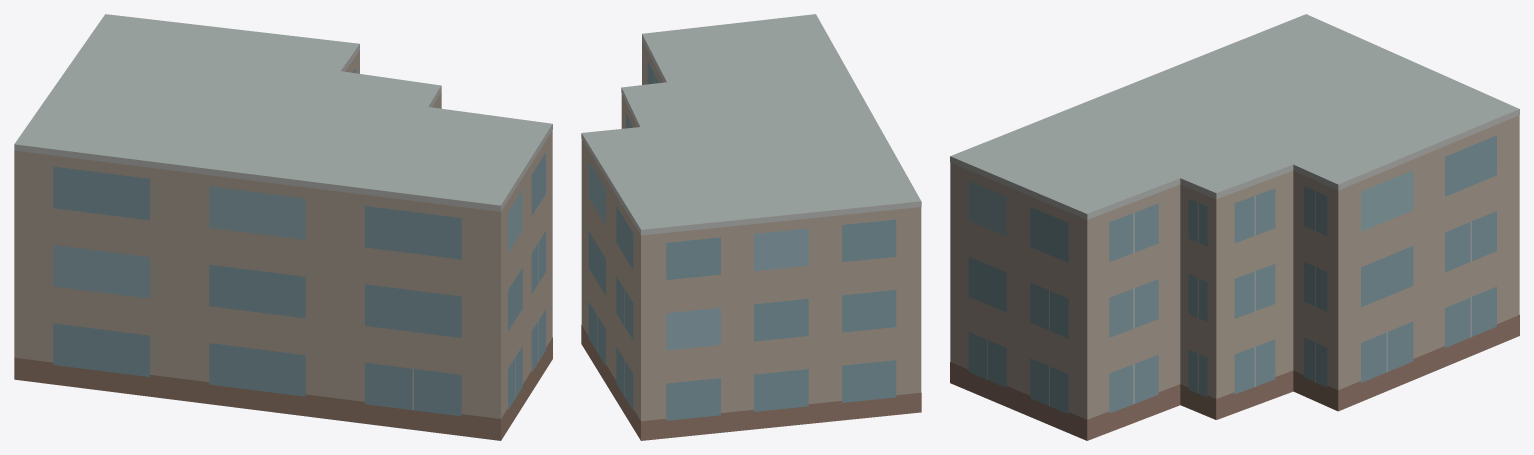
The model's file is survey-upis-32714242.glb.
3 views of the same model, side by side, from view 1: azimuth 30°, elevation 25°; view 2: azimuth 150°, elevation 25°; view 3: azimuth 270°, elevation 25° (orthographic). The views are drawn at different scales.
Parts seen in each view (by area): view 1: survey-upis-32714242.tmp; view 2: survey-upis-32714242.tmp; view 3: survey-upis-32714242.tmp.
Part boxes in pixels (box(x1,y1,x2,y2)): survey-upis-32714242.tmp: box(14, 14, 552, 440); survey-upis-32714242.tmp: box(581, 14, 921, 440); survey-upis-32714242.tmp: box(950, 14, 1519, 440).
Size of the model in its own units: 17.31 by 9.15 by 20.83.
